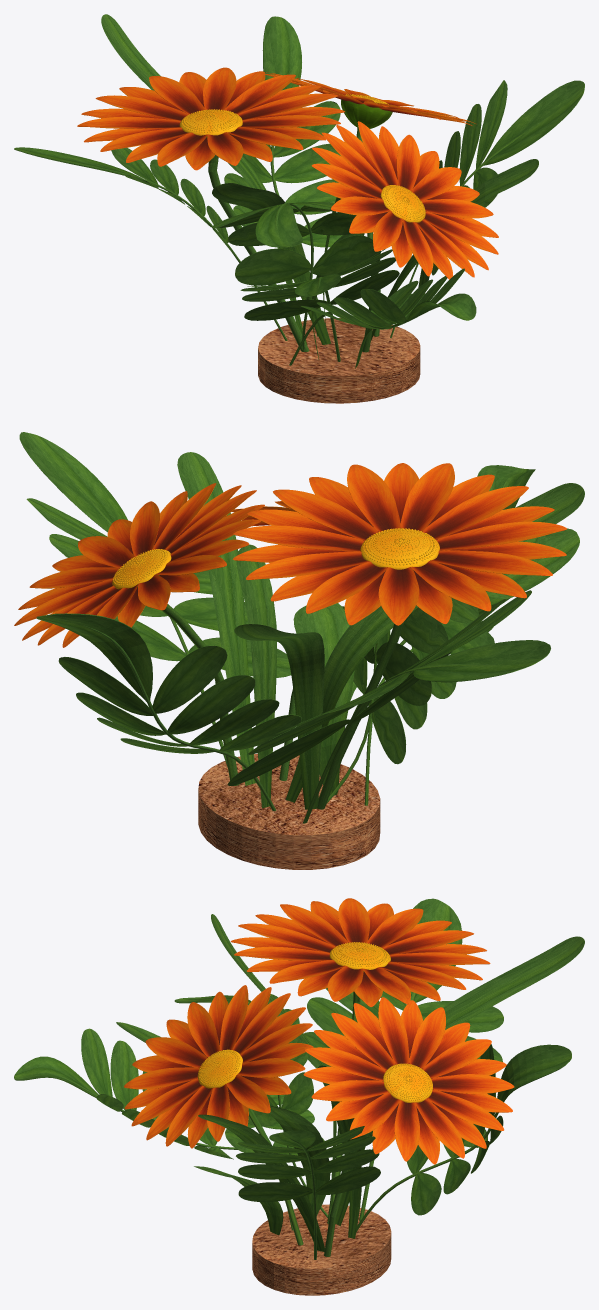
3 renders of one model, top to bottom at view 1: azimuth 30°, elevation 25°; view 2: azimuth 150°, elevation 25°; view 3: azimuth 270°, elevation 25°, orthographic. The views are drawn at different scales.
Parts seen in each view (by area): view 1: sve; view 2: sve; view 3: sve.
Boxes of the visible parts, <box> form: sve: <box>14,14,584,403</box>; sve: <box>14,432,584,869</box>; sve: <box>14,898,584,1295</box>.
Size of the model in its own units: 636 by 352 by 656.
5 materials, 5 textured.
